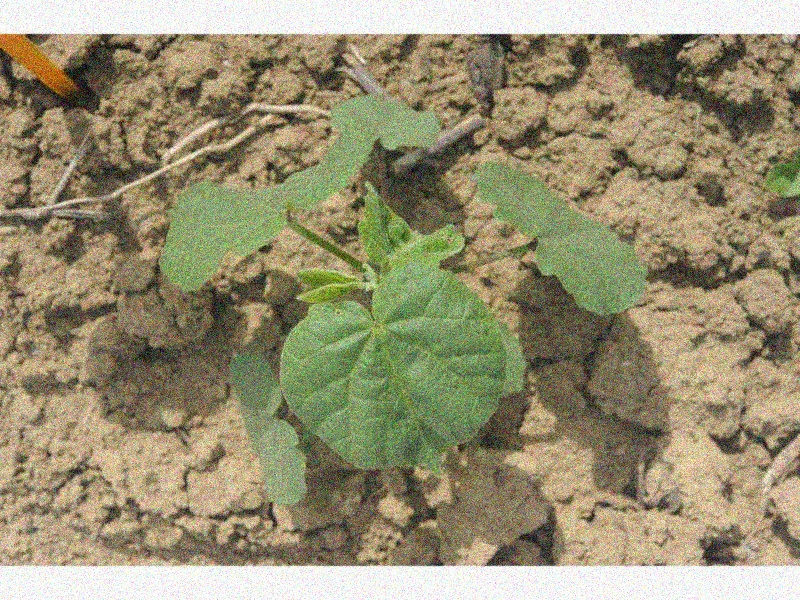velvet: (159, 92, 650, 504)
